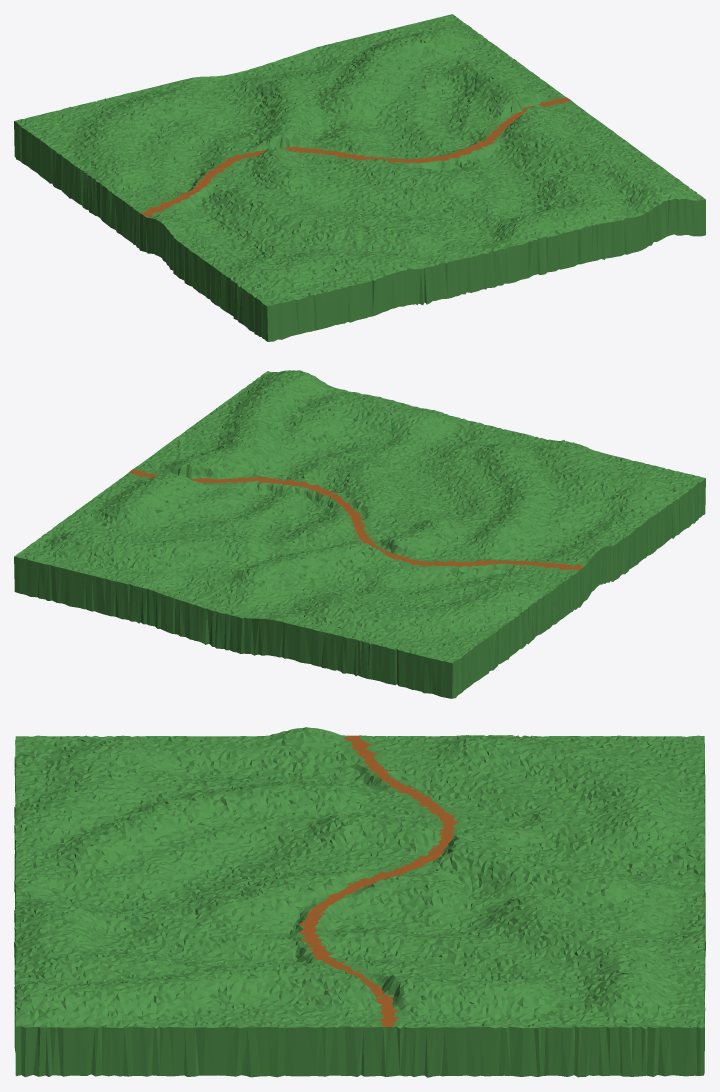
3 views of the same model, one above another, from view 1: azimuth 30°, elevation 25°; view 2: azimuth 150°, elevation 25°; view 3: azimuth 270°, elevation 25° (orthographic). The views are drawn at different scales.
Parts seen in each view (by area): view 1: Plane; view 2: Plane; view 3: Plane.
Boxes of the visible parts, bbox=[...] form: Plane: bbox=[14, 14, 705, 341]; Plane: bbox=[14, 370, 705, 698]; Plane: bbox=[14, 727, 705, 1077].
Size of the model in its own units: 24080 by 3010 by 24097.
